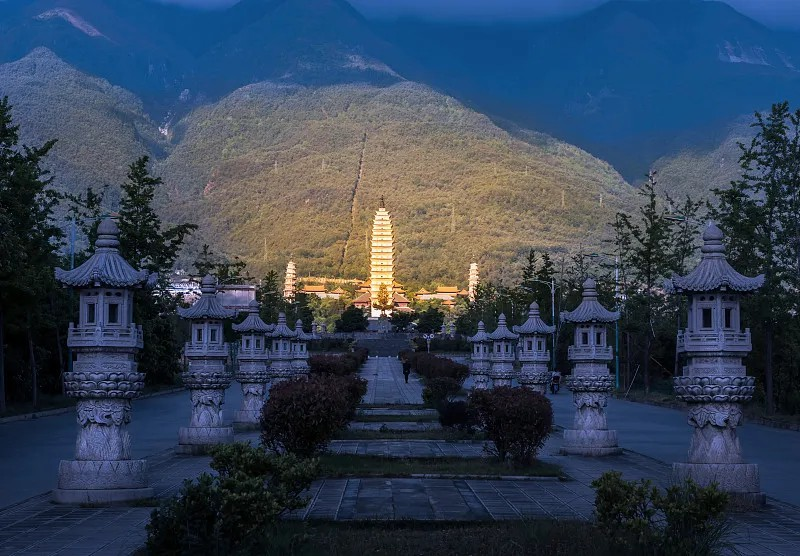ThreePagoda: (367, 194, 396, 318)
